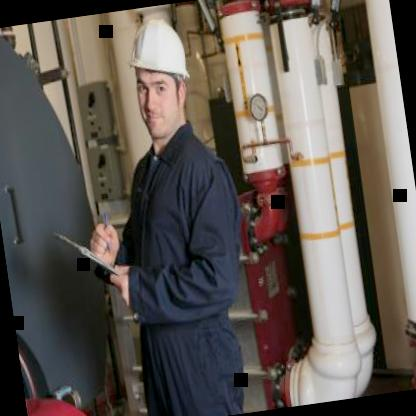helmet: (118, 1, 206, 150)
